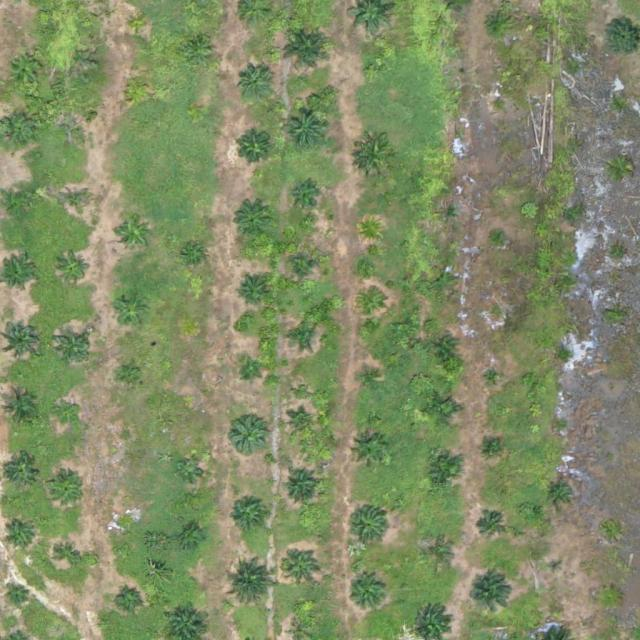Grass: (182, 527, 205, 551)
Healthy: (280, 23, 335, 78)
Small: (467, 573, 514, 621), (225, 562, 272, 609), (282, 104, 329, 151), (228, 414, 268, 454), (229, 493, 268, 533), (54, 328, 93, 368), (110, 292, 150, 331), (236, 63, 275, 103), (355, 137, 395, 176), (425, 452, 464, 492), (282, 547, 321, 587), (7, 49, 46, 89), (424, 390, 463, 430), (2, 318, 41, 357), (232, 201, 271, 240), (235, 128, 274, 167), (281, 467, 320, 506), (350, 432, 389, 471), (349, 507, 388, 546), (351, 576, 390, 615), (115, 215, 154, 254), (58, 253, 89, 285), (236, 277, 267, 309), (285, 321, 316, 353), (481, 7, 512, 39), (476, 511, 507, 543), (61, 187, 92, 219), (6, 186, 37, 218), (8, 455, 39, 486), (52, 475, 83, 506), (287, 183, 318, 214), (183, 33, 214, 64), (423, 539, 454, 570), (547, 478, 578, 509), (285, 410, 316, 441), (288, 255, 319, 286), (5, 520, 36, 551), (7, 584, 31, 608), (359, 219, 383, 243), (599, 587, 623, 611), (483, 367, 507, 391), (435, 337, 459, 361), (360, 295, 384, 319), (360, 370, 384, 394), (433, 269, 457, 293), (128, 14, 152, 38), (125, 76, 149, 100), (182, 245, 206, 269), (55, 403, 79, 427), (116, 517, 140, 541), (57, 544, 81, 568), (119, 589, 143, 612), (439, 202, 462, 226), (239, 360, 262, 384), (68, 109, 91, 133), (119, 364, 142, 387), (179, 458, 202, 481), (484, 439, 500, 455), (492, 227, 507, 243), (365, 64, 381, 79), (549, 558, 565, 573), (490, 97, 505, 112)
